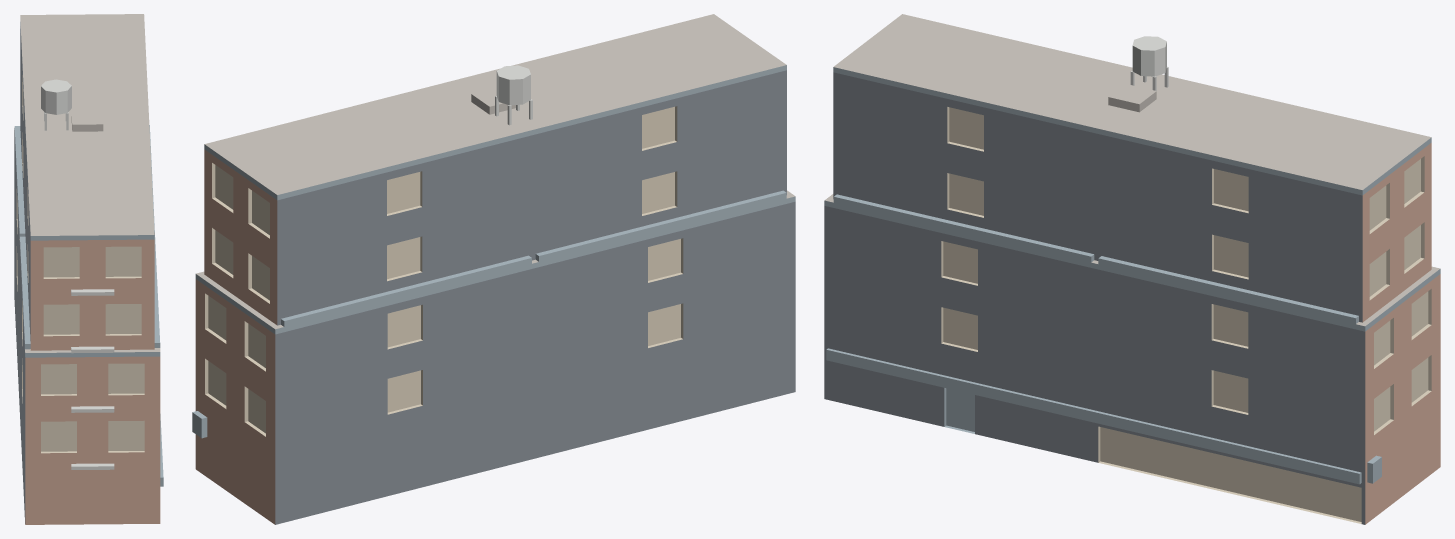
Rendered from doitt-498980__lod_0.glb.
The picture shows the model from 3 angles, left to right: view 1: azimuth 30°, elevation 25°; view 2: azimuth 150°, elevation 25°; view 3: azimuth 270°, elevation 25°; orthographic projection. The views are drawn at different scales.
Size of the model in its own units: 21.01 by 20.02 by 29.7.
